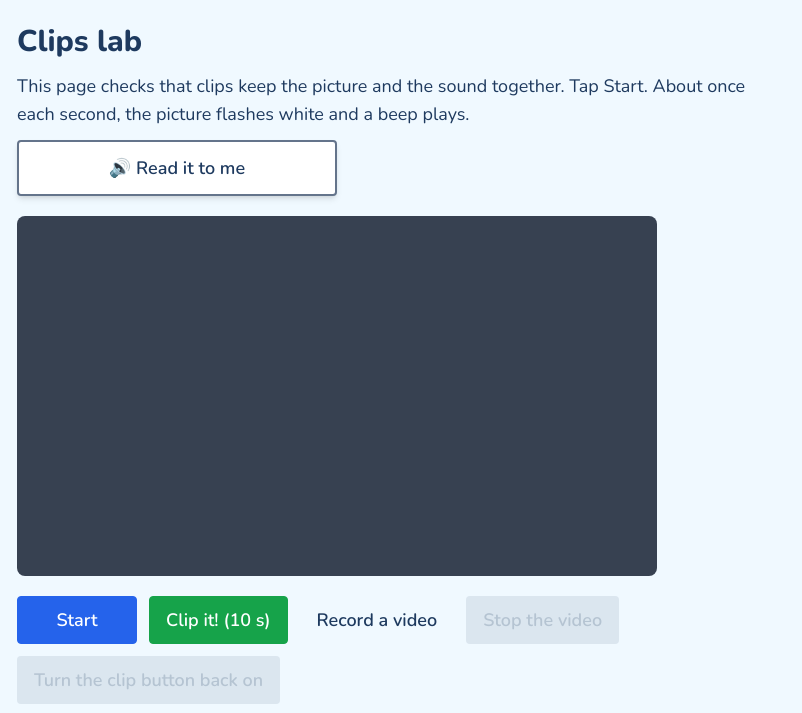
Test: ClipsLab › says the clip could not be made when its file cannot be read
Click the button with test id "lab-clip" at coordinates (218, 620), box top-left (149, 596), bottom-right (288, 644)
(page scrolled)
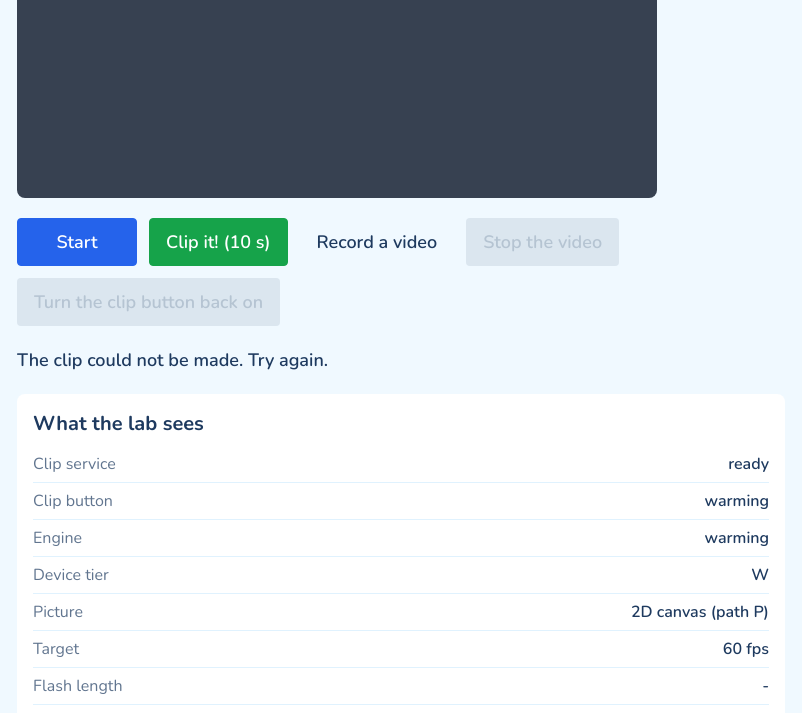
Now the text with test id "lab-message" reads "The clip could not be made. Try again.", box top-left (17, 348), bottom-right (328, 372)
